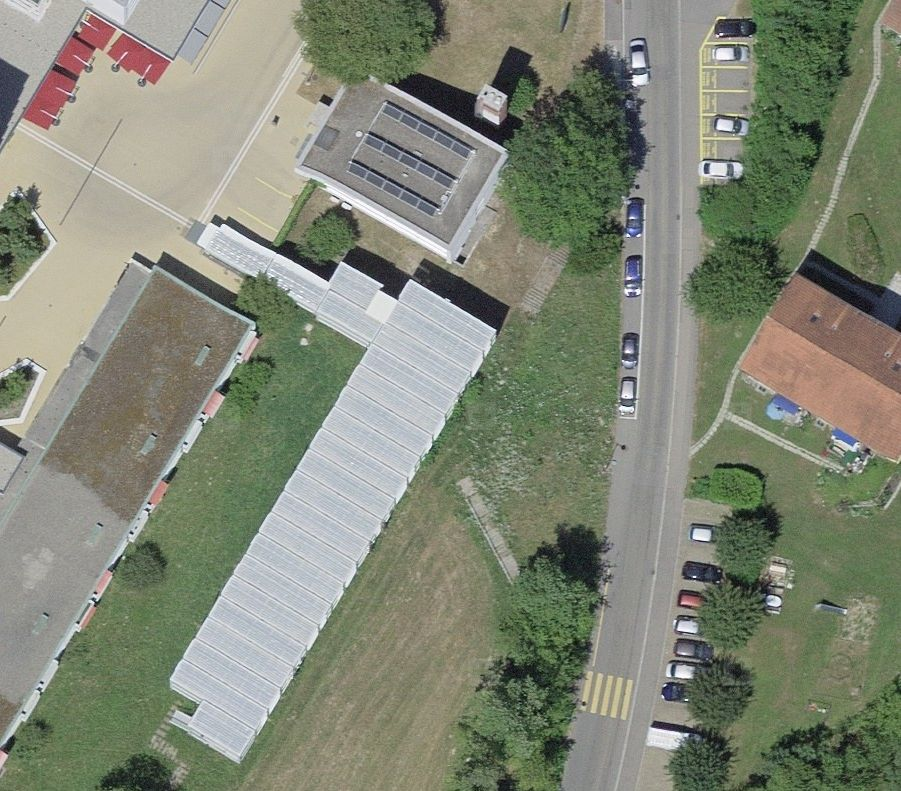solar: (341, 95, 480, 228)
